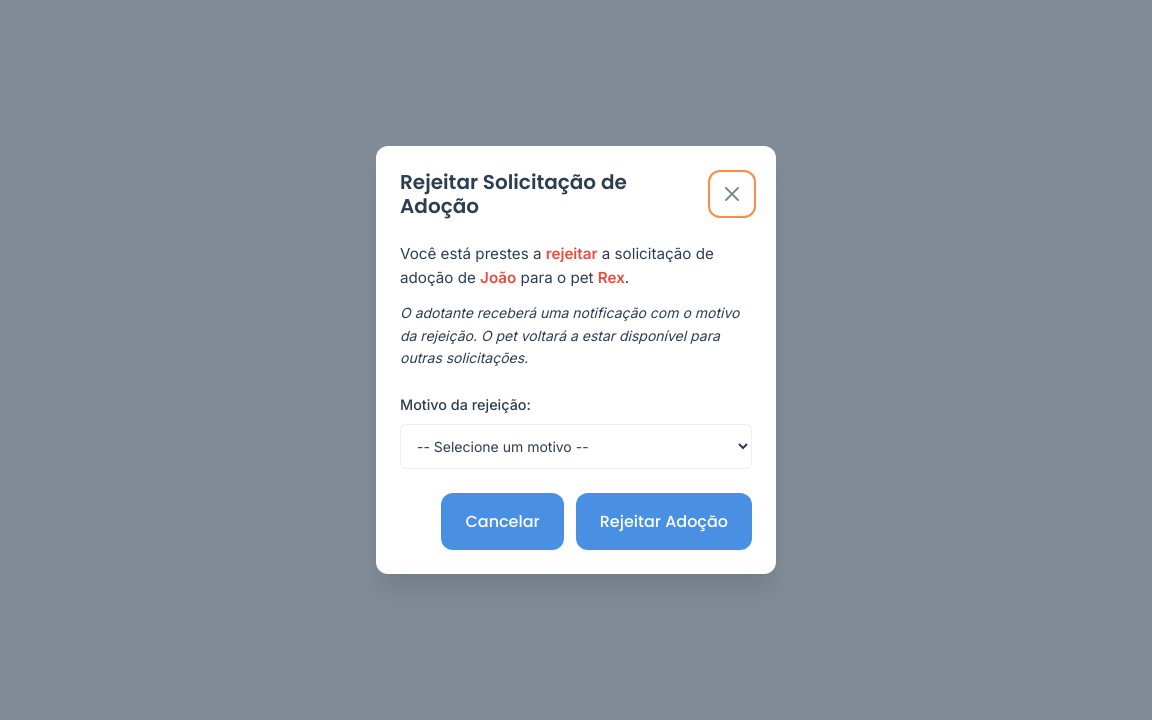
Test: RejectionModal Component › Form Validation › should show error when other reason is selected but no text provided
Select "Outro motivo" in the dropdown showing "Selecione um motivo" at point(576, 447), box [400,424,752,469]
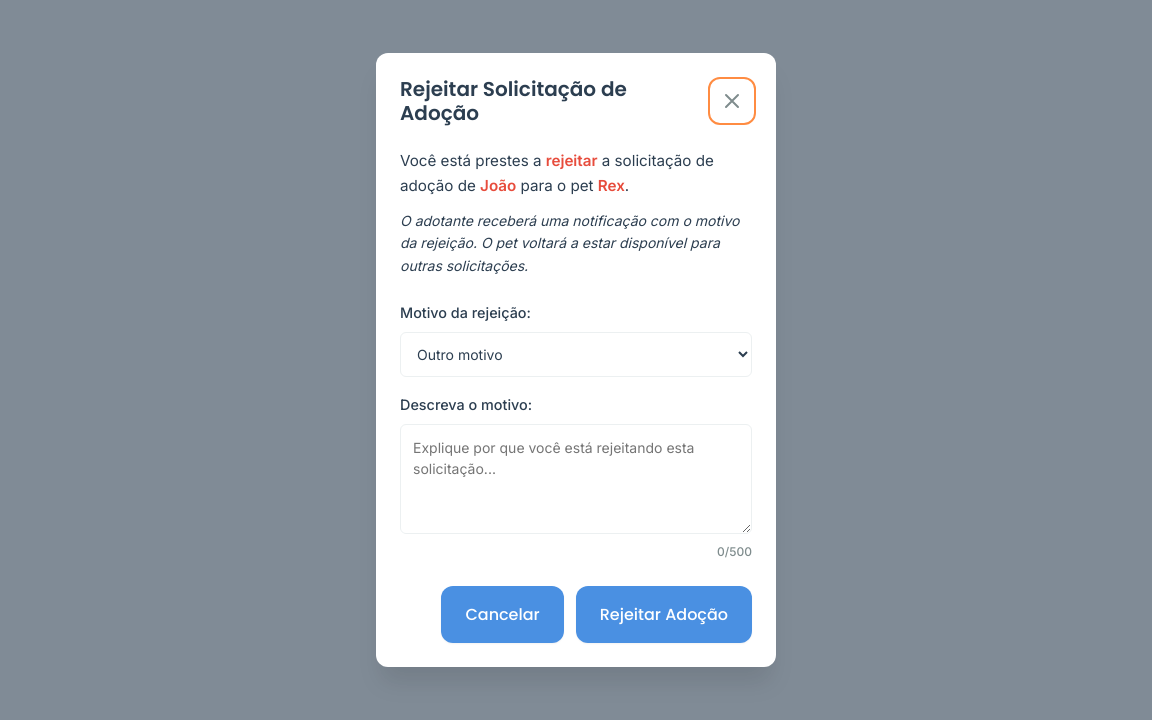
Expected: the text box with placeholder "Explique por que você está rejeitando esta solicitação..." is shown, [400,424,752,534]
Click the button "Rejeitar Adoção" at point(664, 614), box [576,586,752,642]
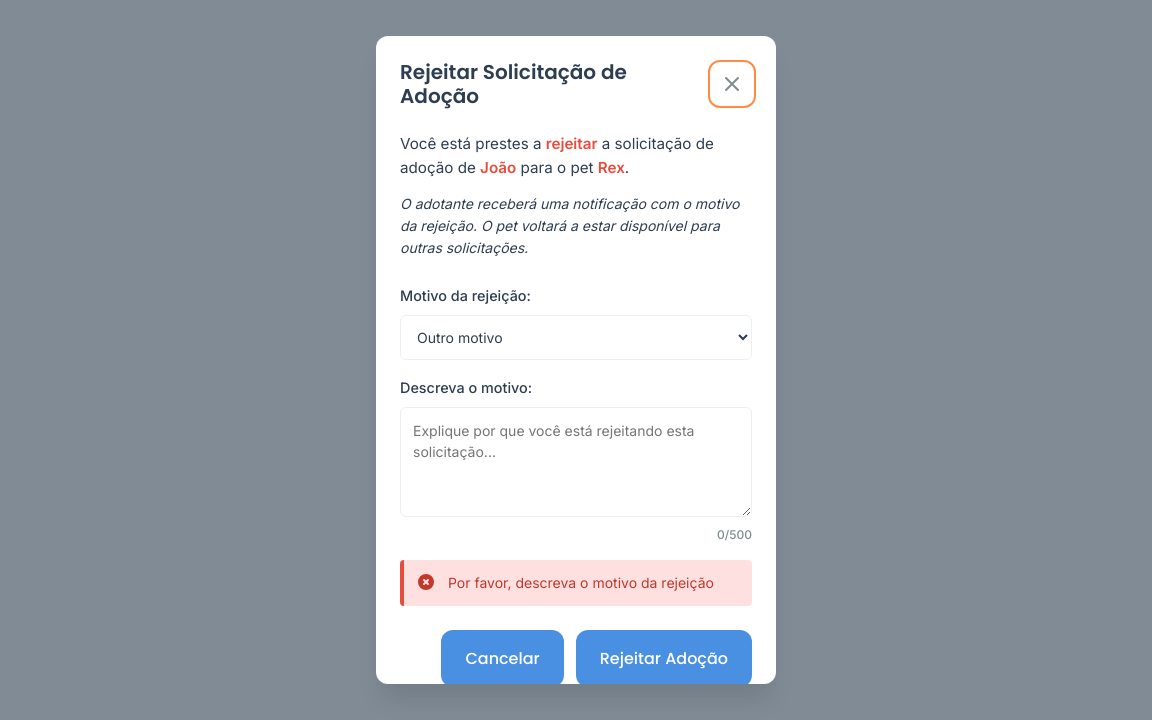
Expected: the text "Por favor, descreva o motivo da rejeição" is shown, [400,560,752,606]
